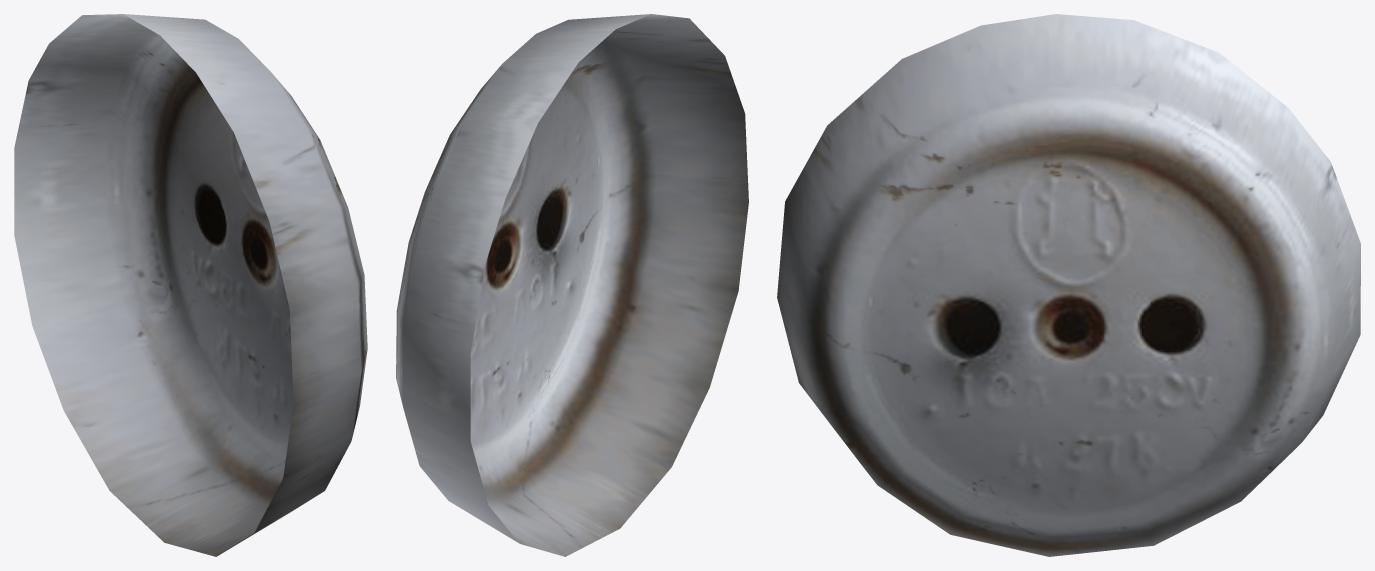
File: Electrical_Socket_04.fbx
3 views of the same model, side by side, from view 1: azimuth 30°, elevation 25°; view 2: azimuth 150°, elevation 25°; view 3: azimuth 270°, elevation 25° (orthographic). The views are drawn at different scales.
Parts seen in each view (by area): view 1: Electrical_Socket_04; view 2: Electrical_Socket_04; view 3: Electrical_Socket_04.
Part boxes in pixels (box(x1,y1,x2,y2)): Electrical_Socket_04: box(14, 14, 367, 556); Electrical_Socket_04: box(396, 14, 748, 556); Electrical_Socket_04: box(777, 14, 1360, 556).
Bounding box in the file's own units: 2.37 × 10.83 × 10.78.
Materials: 1 (1 with a texture image).
